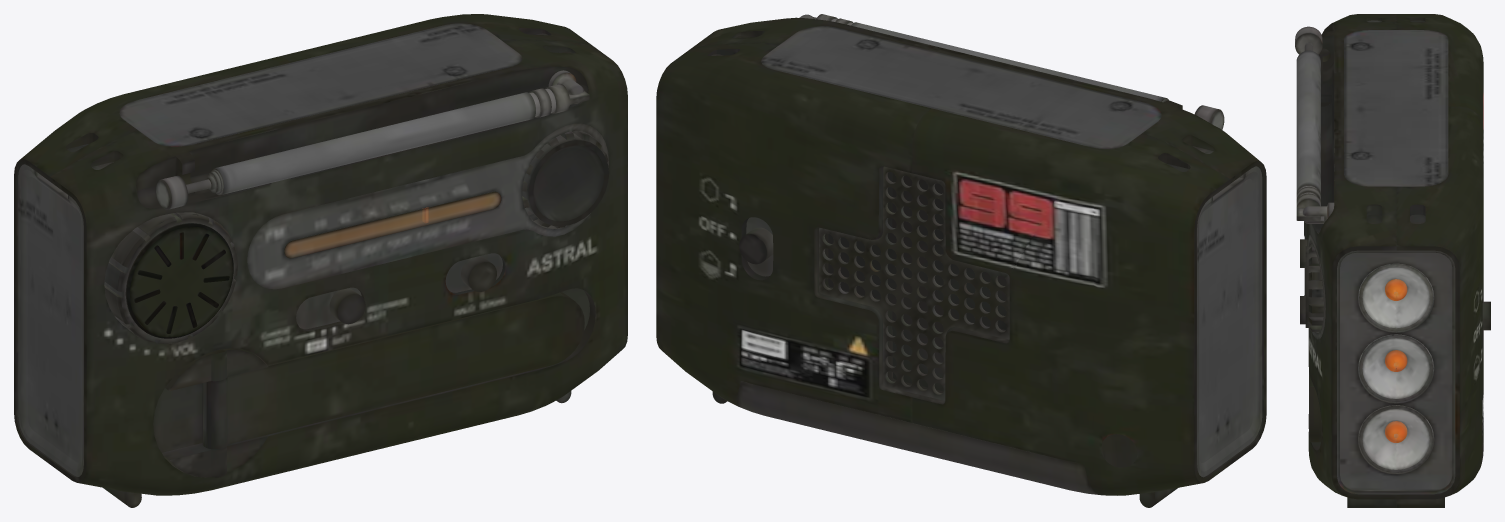
File: radio-gadget.glb
The picture shows the model from 3 angles, left to right: view 1: azimuth 30°, elevation 25°; view 2: azimuth 150°, elevation 25°; view 3: azimuth 270°, elevation 25°; orthographic projection. The views are drawn at different scales.
Parts seen in each view (by area): view 1: Object_4; view 2: Object_4; view 3: Object_4.
Boxes of the visible parts, x1,y1,x2,y2 form: Object_4: [14, 14, 627, 507]; Object_4: [656, 14, 1266, 507]; Object_4: [1295, 14, 1490, 507].
Bounding box in the file's own units: 0.25 × 0.1548 × 0.089.
Materials: 1 (1 with a texture image).
